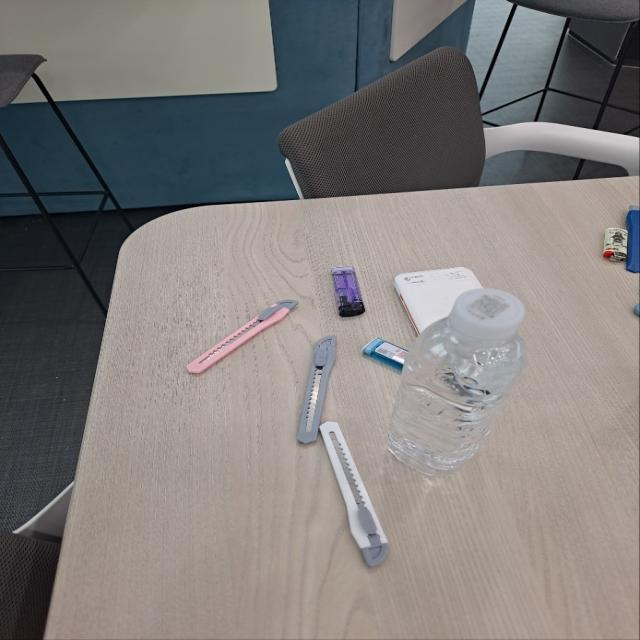cutter: (315, 418, 395, 570), (182, 295, 300, 376), (296, 335, 340, 450)
lighter: (328, 266, 366, 318), (365, 337, 413, 372), (604, 227, 628, 263)
portable_charger: (392, 266, 497, 340)
water: (389, 288, 530, 474)
